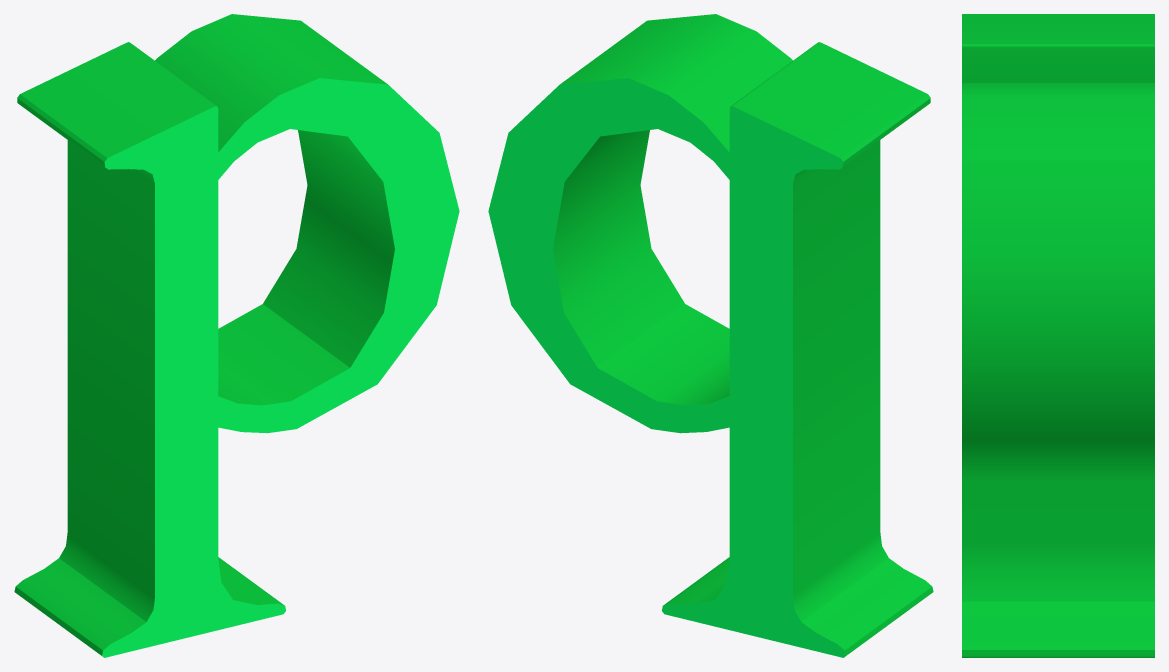
The model's file is P_Zyzol_Green.glb.
The picture shows the model from 3 angles, left to right: view 1: azimuth 30°, elevation 25°; view 2: azimuth 150°, elevation 25°; view 3: azimuth 270°, elevation 25°; orthographic projection. The views are drawn at different scales.
Parts seen in each view (by area): view 1: p_Zyzol_Green; view 2: p_Zyzol_Green; view 3: p_Zyzol_Green.
Boxes of the visible parts, x1=… form: p_Zyzol_Green: x1=14, y1=14, x2=459, y2=657; p_Zyzol_Green: x1=488, y1=14, x2=933, y2=657; p_Zyzol_Green: x1=962, y1=14, x2=1154, y2=657.
Size of what is drawn, in the model's own units: 0.1062 by 0.1496 by 0.045.
Materials: 2 (2 with a texture image).
